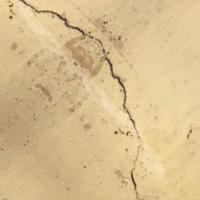crack: (19, 1, 144, 196)
